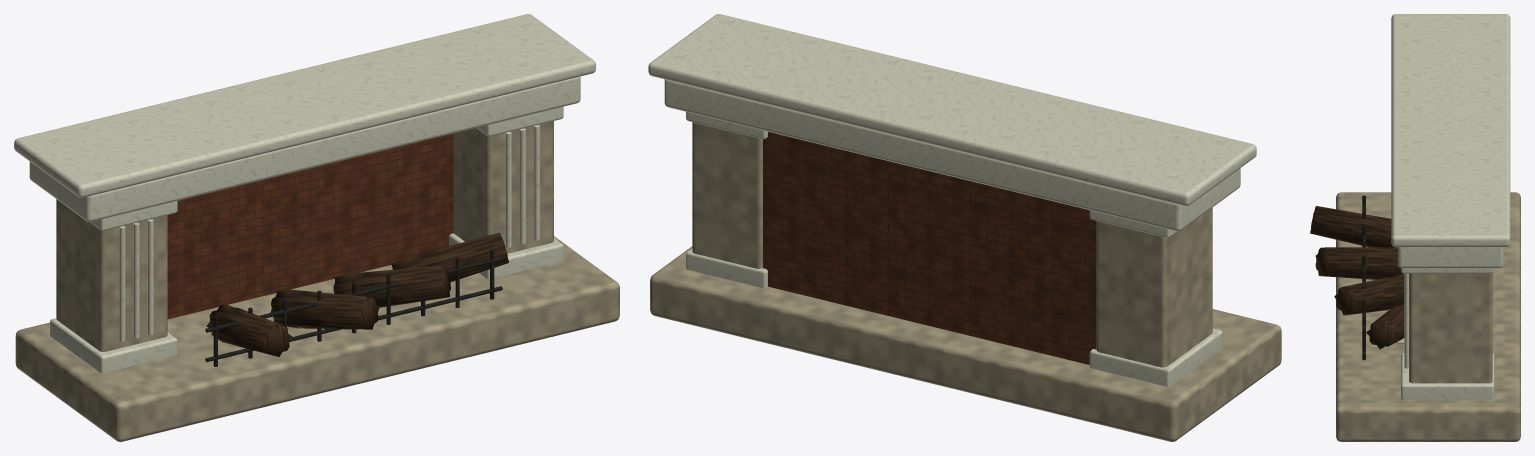
The model's file is Fireplace.fbx.
3 renders of one model, left to right at view 1: azimuth 30°, elevation 25°; view 2: azimuth 150°, elevation 25°; view 3: azimuth 270°, elevation 25°, orthographic. The views are drawn at different scales.
Visible parts, largest first — view 1: Fireplace_Marble, Fireplace_Limestone, Fireplace_HearthBrick, Fireplace_Bark, Fireplace_Iron; view 2: Fireplace_Marble, Fireplace_Limestone, Fireplace_HearthBrick; view 3: Fireplace_Marble, Fireplace_Limestone, Fireplace_Bark, Fireplace_Iron.
Boxes of the visible parts, x1,y1,x2,y2 form: Fireplace_Marble: [14, 14, 595, 373]; Fireplace_Limestone: [15, 121, 619, 441]; Fireplace_HearthBrick: [167, 133, 453, 319]; Fireplace_Bark: [206, 232, 508, 356]; Fireplace_Iron: [205, 248, 502, 366]; Fireplace_Marble: [648, 14, 1256, 386]; Fireplace_Limestone: [650, 122, 1281, 441]; Fireplace_HearthBrick: [763, 132, 1096, 364]; Fireplace_Marble: [1391, 14, 1510, 399]; Fireplace_Limestone: [1336, 192, 1520, 441]; Fireplace_Bark: [1310, 206, 1404, 349]; Fireplace_Iron: [1362, 195, 1365, 360].
Bounding box in the file's own units: 330 × 144 × 131.
